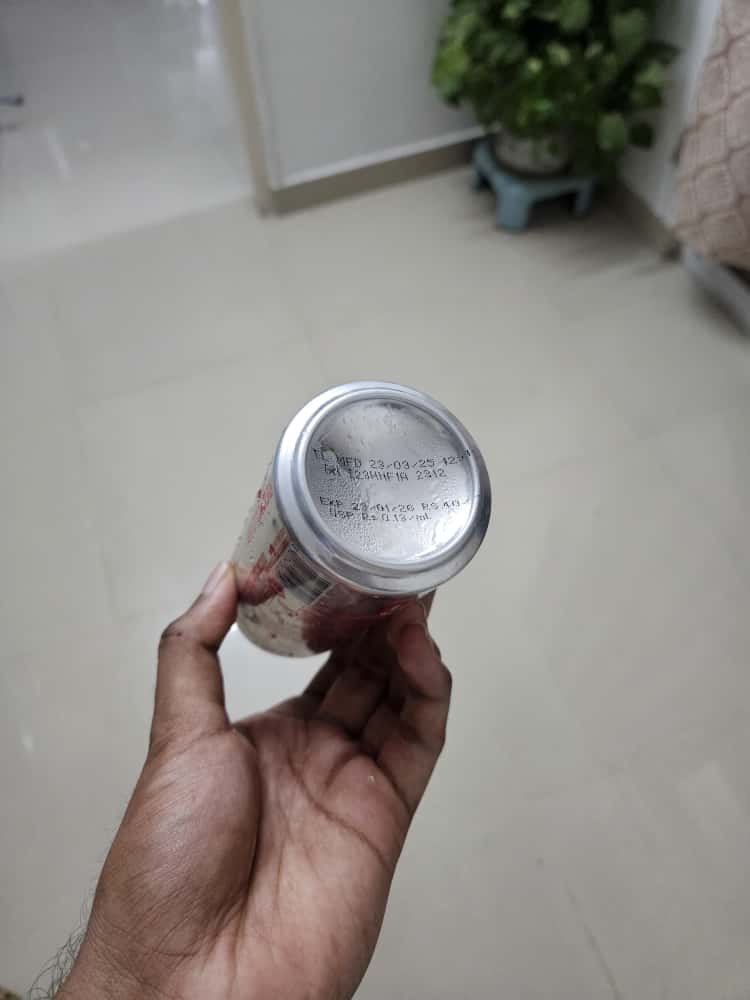dry: (200, 368, 518, 667)
